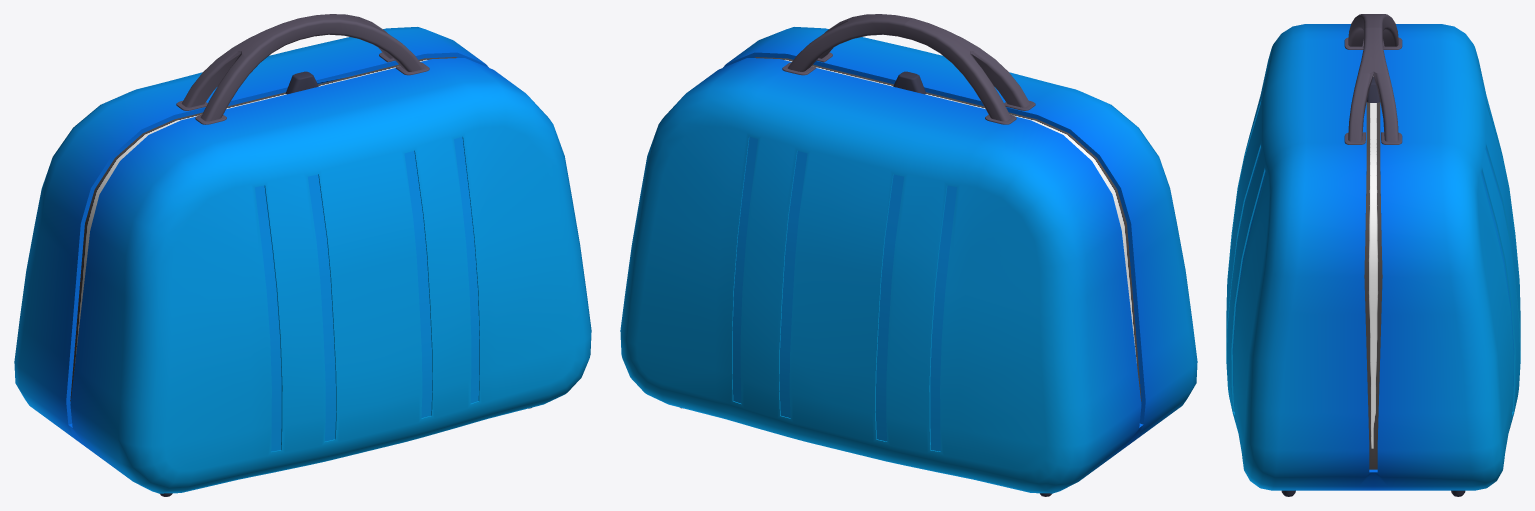
The model's file is Baggage_3_Blue.fbx.
The picture shows the model from 3 angles, left to right: view 1: azimuth 30°, elevation 25°; view 2: azimuth 150°, elevation 25°; view 3: azimuth 270°, elevation 25°; orthographic projection. The views are drawn at different scales.
Visible parts, largest first — view 1: Baggage_3_Blue; view 2: Baggage_3_Blue; view 3: Baggage_3_Blue.
Boxes of the visible parts, x1,y1,x2,y2 form: Baggage_3_Blue: (14,14,591,496); Baggage_3_Blue: (620,14,1197,496); Baggage_3_Blue: (1226,14,1520,496).
Bounding box in the file's own units: 60.85 × 49.27 × 34.41.
